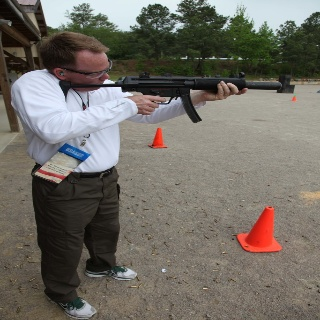rifle: (58, 68, 299, 126)
